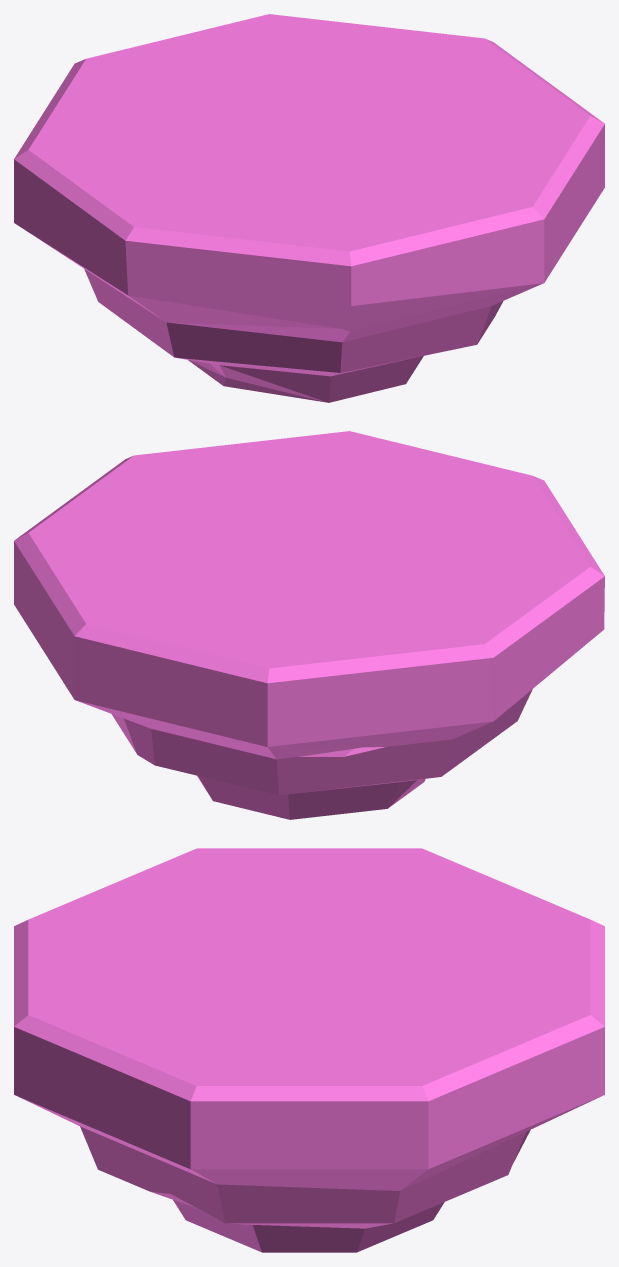
Rendered from SM_Tower_Round_3m_Bottom_A_Fantasy.fbx.
3 renders of one model, top to bottom at view 1: azimuth 30°, elevation 25°; view 2: azimuth 150°, elevation 25°; view 3: azimuth 270°, elevation 25°, orthographic. The views are drawn at different scales.
Visible parts, largest first — view 1: SM_Tower_Round_3m_Bottom_A_Fantasy; view 2: SM_Tower_Round_3m_Bottom_A_Fantasy; view 3: SM_Tower_Round_3m_Bottom_A_Fantasy.
Part boxes in pixels (x1,y1,x2,y2): SM_Tower_Round_3m_Bottom_A_Fantasy: (14,14,604,402); SM_Tower_Round_3m_Bottom_A_Fantasy: (14,431,604,819); SM_Tower_Round_3m_Bottom_A_Fantasy: (14,848,604,1252).
Size of the model in its own units: 3.01 by 1.44 by 3.01.
